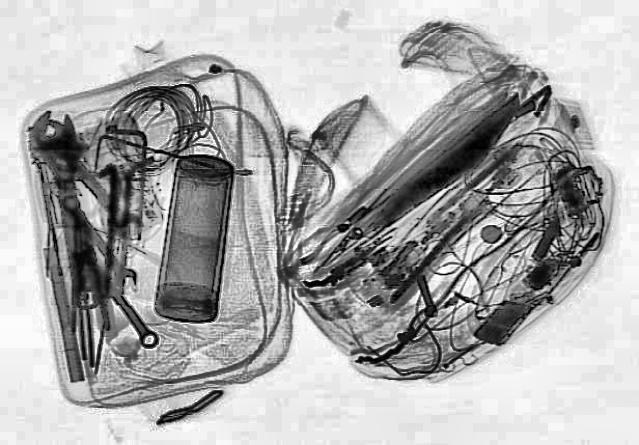Wrench: (22, 108, 110, 308), (24, 116, 152, 242), (62, 202, 142, 290), (88, 268, 162, 350)
